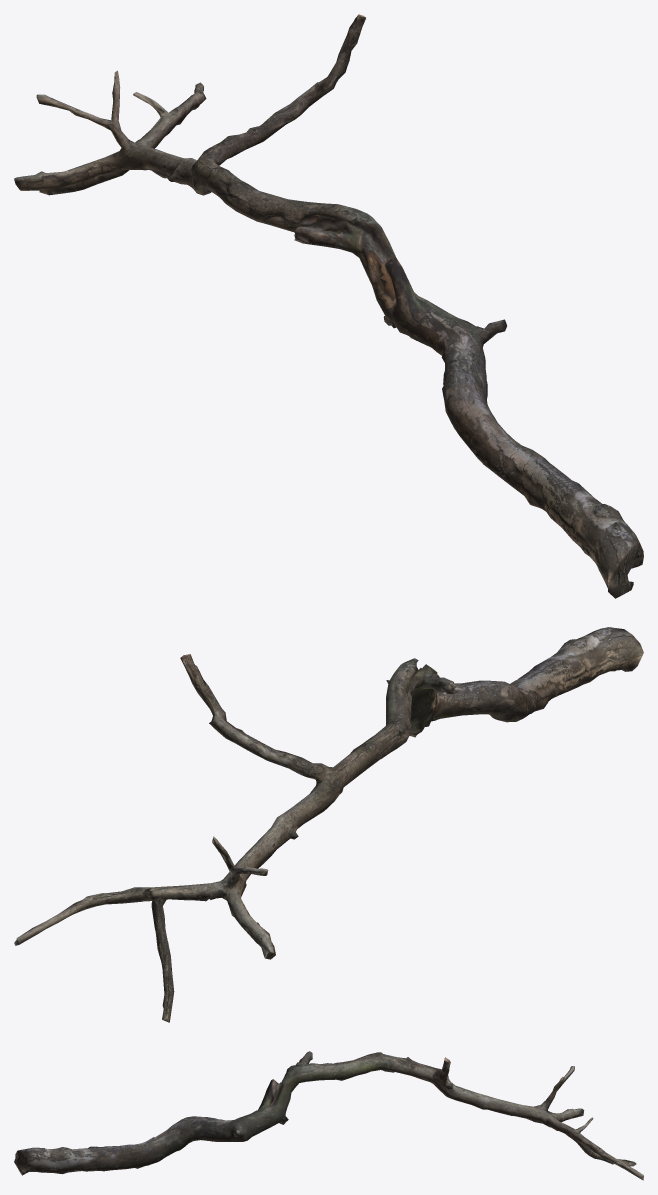
File: SM_Branches_01.gltf
3 renders of one model, top to bottom at view 1: azimuth 30°, elevation 25°; view 2: azimuth 150°, elevation 25°; view 3: azimuth 270°, elevation 25°, orthographic. The views are drawn at different scales.
Parts seen in each view (by area): view 1: SM_Branches_01; view 2: SM_Branches_01; view 3: SM_Branches_01.
Part boxes in pixels (box(x1,y1,x2,y2)): SM_Branches_01: box(14, 14, 643, 598); SM_Branches_01: box(14, 627, 643, 1022); SM_Branches_01: box(14, 1051, 643, 1180).
Size of the model in its own units: 0.3228 by 0.3407 by 1.3.
Materials: 1 (1 with a texture image).
